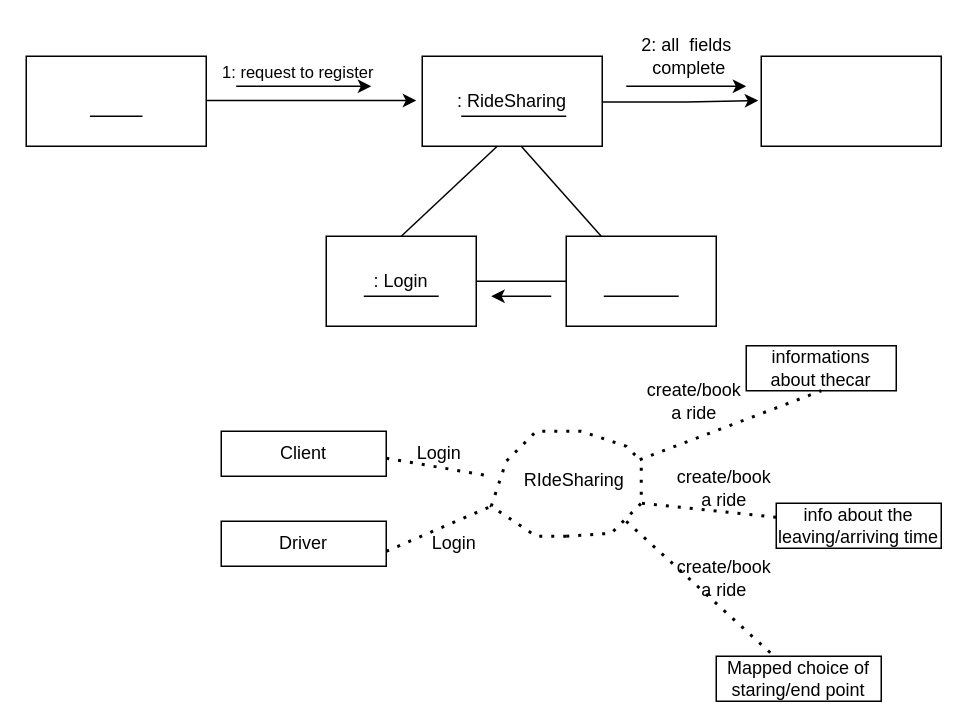
Some shapes in this 968 by 728 pixel diagram are drawn without their labels. Each missing label, with the centre of its shape:
": Create/Book a ride" goes at (x=850, y=100).
": Registration" goes at (x=640, y=280).
": User" goes at (x=115, y=100).
